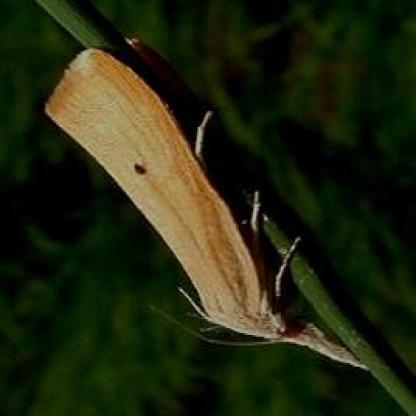stem-borer: (40, 29, 374, 378)
